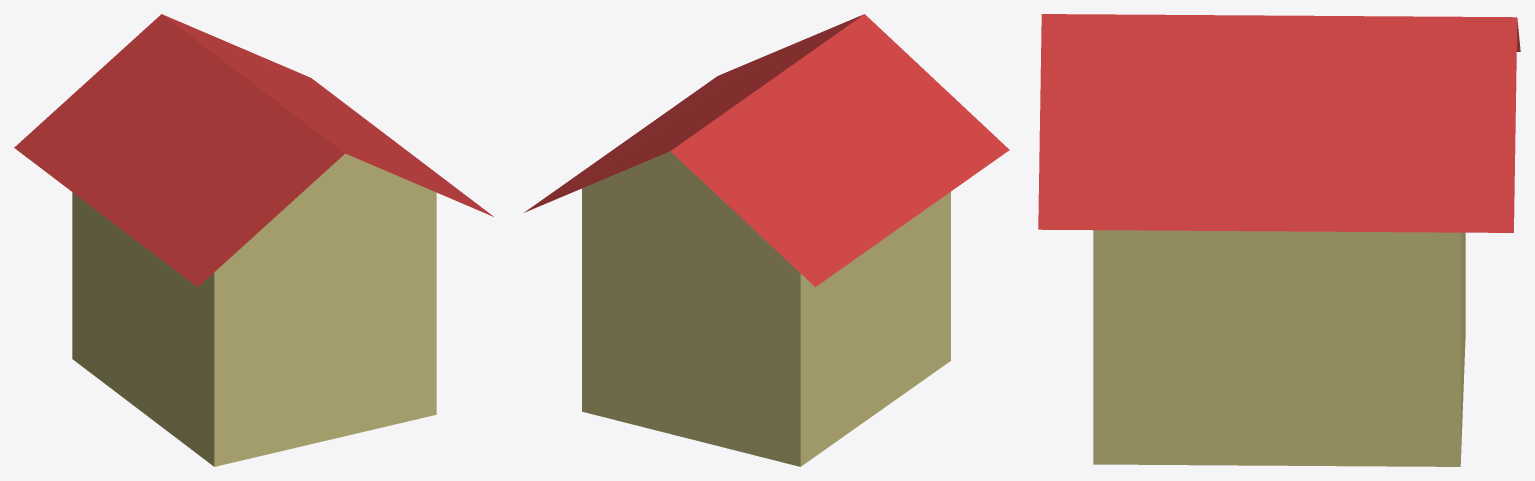
The picture shows the model from 3 angles, left to right: view 1: azimuth 30°, elevation 25°; view 2: azimuth 150°, elevation 25°; view 3: azimuth 270°, elevation 25°; orthographic projection. The views are drawn at different scales.
Size of the model in its own units: 8.05 by 8.92 by 7.79.
